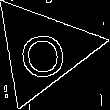O_N: (15, 21, 70, 79)
